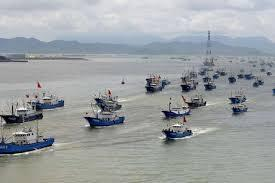Ship: (1, 133, 55, 155), (1, 106, 44, 124), (96, 90, 123, 112), (163, 99, 192, 119), (85, 113, 126, 127), (28, 98, 65, 111), (146, 75, 171, 93), (163, 126, 193, 140), (183, 97, 207, 108), (230, 96, 247, 105), (234, 106, 249, 114)
